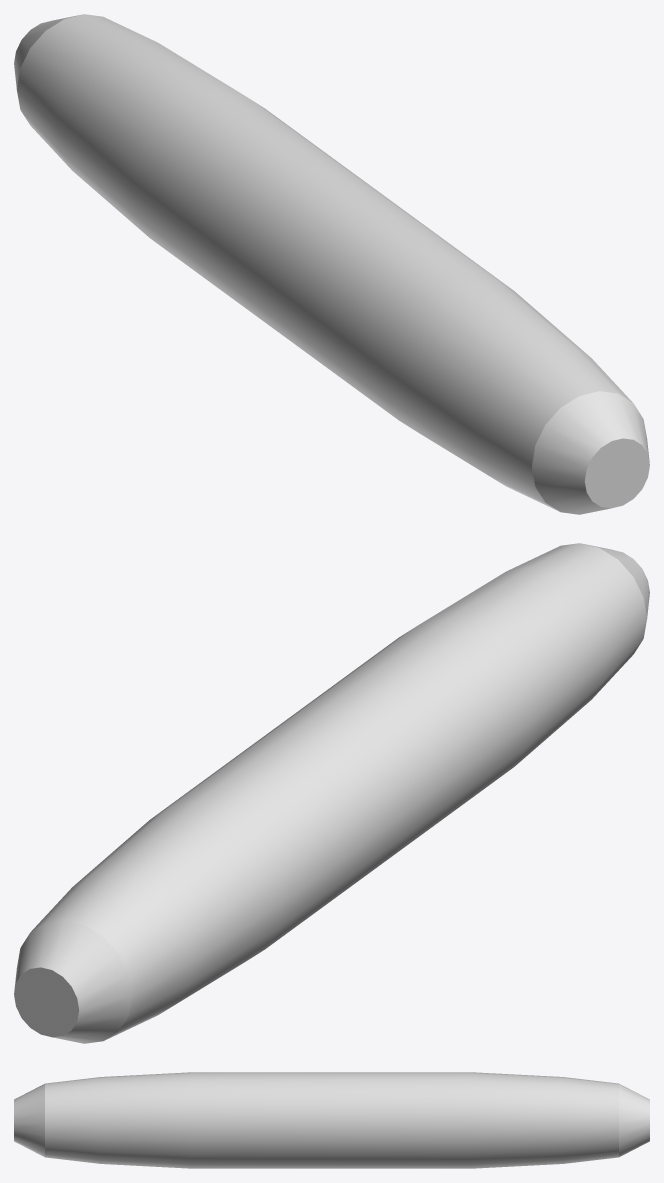
The picture shows the model from 3 angles, top to bottom: view 1: azimuth 30°, elevation 25°; view 2: azimuth 150°, elevation 25°; view 3: azimuth 270°, elevation 25°; orthographic projection. The views are drawn at different scales.
Visible parts, largest first — view 1: SM_转子; view 2: SM_转子; view 3: SM_转子.
Part boxes in pixels (x1,y1,x2,y2): SM_转子: (14, 14, 649, 514); SM_转子: (14, 543, 649, 1043); SM_转子: (14, 1072, 649, 1168).
Size of the model in its own units: 1.13 by 1.11 by 7.4.
